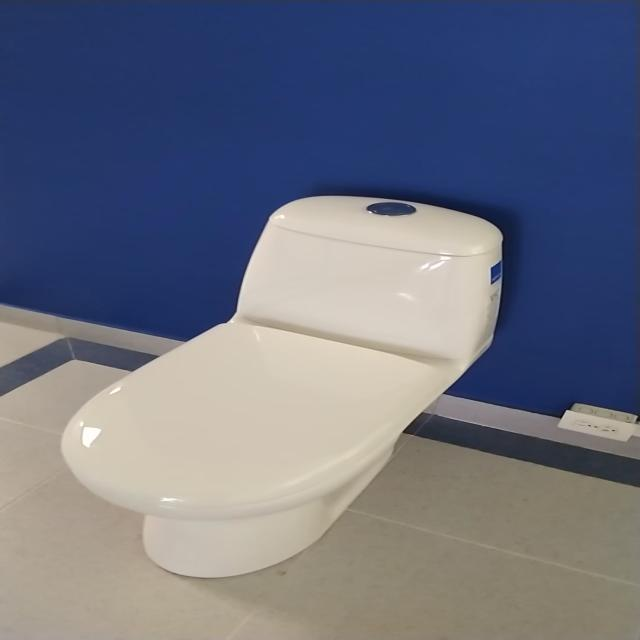toilet: (59, 194, 504, 578)
